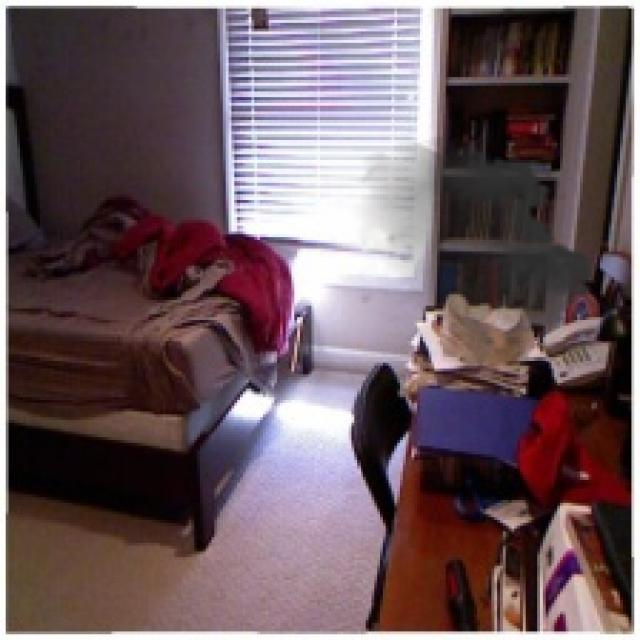smoke: (346, 137, 603, 380)
